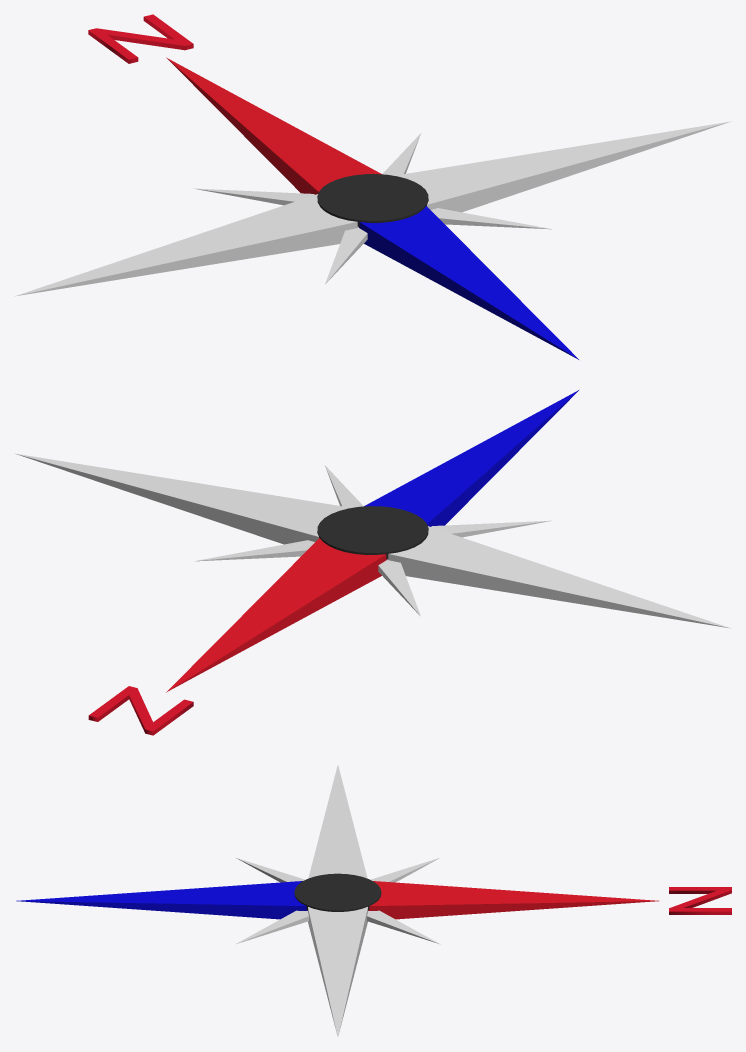
File: compass.glb
The picture shows the model from 3 angles, top to bottom: view 1: azimuth 30°, elevation 25°; view 2: azimuth 150°, elevation 25°; view 3: azimuth 270°, elevation 25°; orthographic projection. The views are drawn at different scales.
Visible parts, largest first — view 1: Text; view 2: Text; view 3: Text.
Boxes of the visible parts, box(x1,y1,x2,y2) form: Text: box(15, 14, 731, 359); Text: box(15, 390, 731, 735); Text: box(16, 765, 731, 1036).
Bounding box in the file's own units: 7 × 0.2066 × 7.76.
